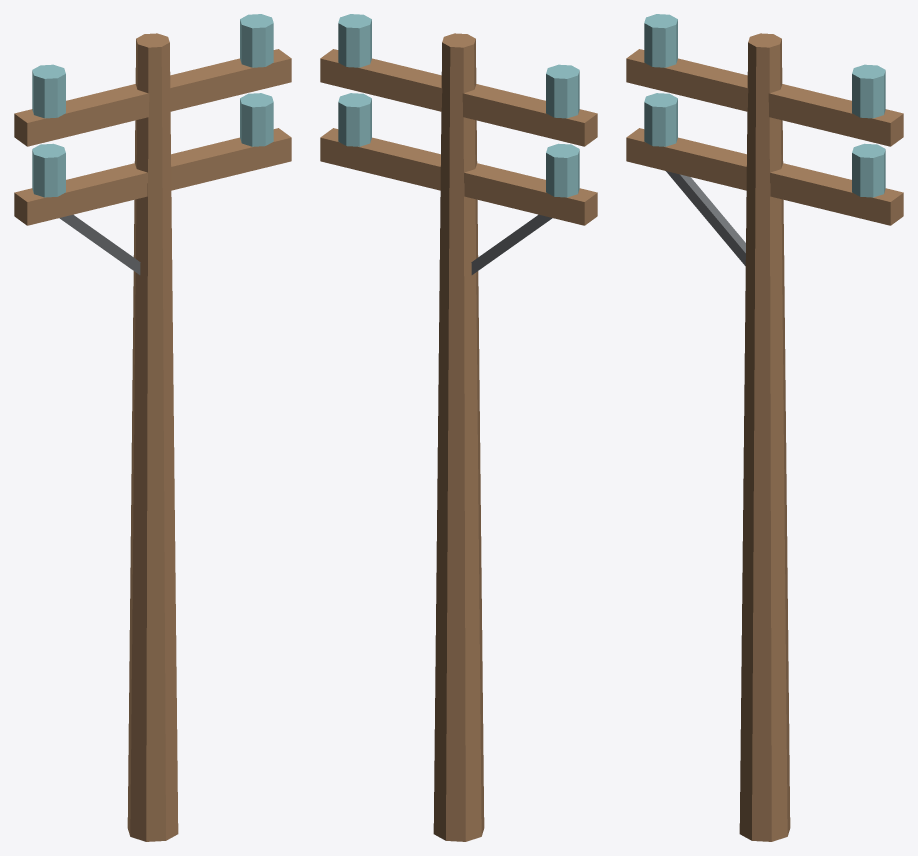
File: frontier-telegraph-pole__136.glb
The picture shows the model from 3 angles, left to right: view 1: azimuth 30°, elevation 25°; view 2: azimuth 150°, elevation 25°; view 3: azimuth 330°, elevation 25°; orthographic projection.
Parts seen in each view (by area): view 1: frontier-post-telegraph-pole; view 2: frontier-post-telegraph-pole; view 3: frontier-post-telegraph-pole.
Boxes of the visible parts, x1,y1,x2,y2 form: frontier-post-telegraph-pole: (14,14,291,841); frontier-post-telegraph-pole: (320,14,597,841); frontier-post-telegraph-pole: (626,14,903,841).
Size of the model in its own units: 1.4 by 4 by 0.24.
